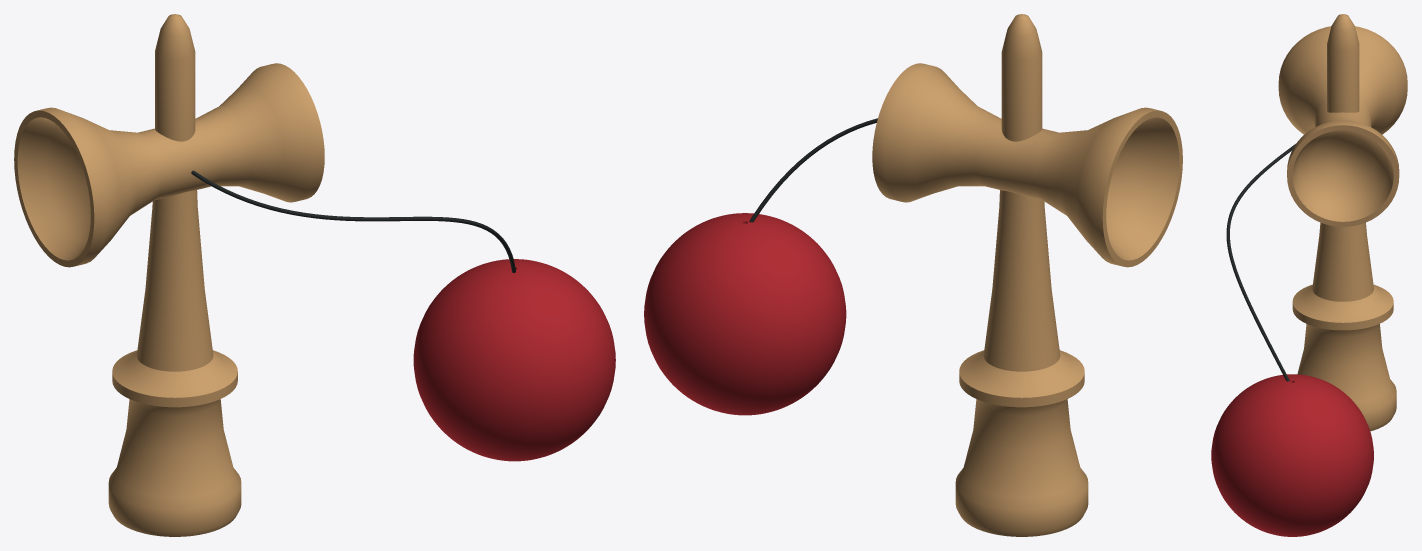
3 renders of one model, left to right at view 1: azimuth 30°, elevation 25°; view 2: azimuth 150°, elevation 25°; view 3: azimuth 270°, elevation 25°, orthographic. The views are drawn at different scales.
Parts seen in each view (by area): view 1: Ken_body_base_cup_and_spike, Sarado_side_cups, Tama_ball_with_through_bore, Illustrative_flexible_cord; view 2: Ken_body_base_cup_and_spike, Sarado_side_cups, Tama_ball_with_through_bore, Illustrative_flexible_cord; view 3: Tama_ball_with_through_bore, Sarado_side_cups, Ken_body_base_cup_and_spike, Illustrative_flexible_cord.
Boxes of the visible parts, x1,y1,x2,y2 form: Ken_body_base_cup_and_spike: [108, 14, 241, 536]; Sarado_side_cups: [14, 63, 324, 267]; Tama_ball_with_through_bore: [413, 259, 615, 461]; Illustrative_flexible_cord: [191, 170, 515, 272]; Ken_body_base_cup_and_spike: [955, 14, 1088, 536]; Sarado_side_cups: [872, 63, 1182, 267]; Tama_ball_with_through_bore: [644, 213, 846, 415]; Illustrative_flexible_cord: [749, 118, 877, 222]; Tama_ball_with_through_bore: [1211, 374, 1373, 536]; Sarado_side_cups: [1278, 26, 1407, 226]; Ken_body_base_cup_and_spike: [1292, 14, 1396, 431]; Illustrative_flexible_cord: [1226, 144, 1295, 381].
Size of the model in its own units: 0.171 by 0.157 by 0.07.
